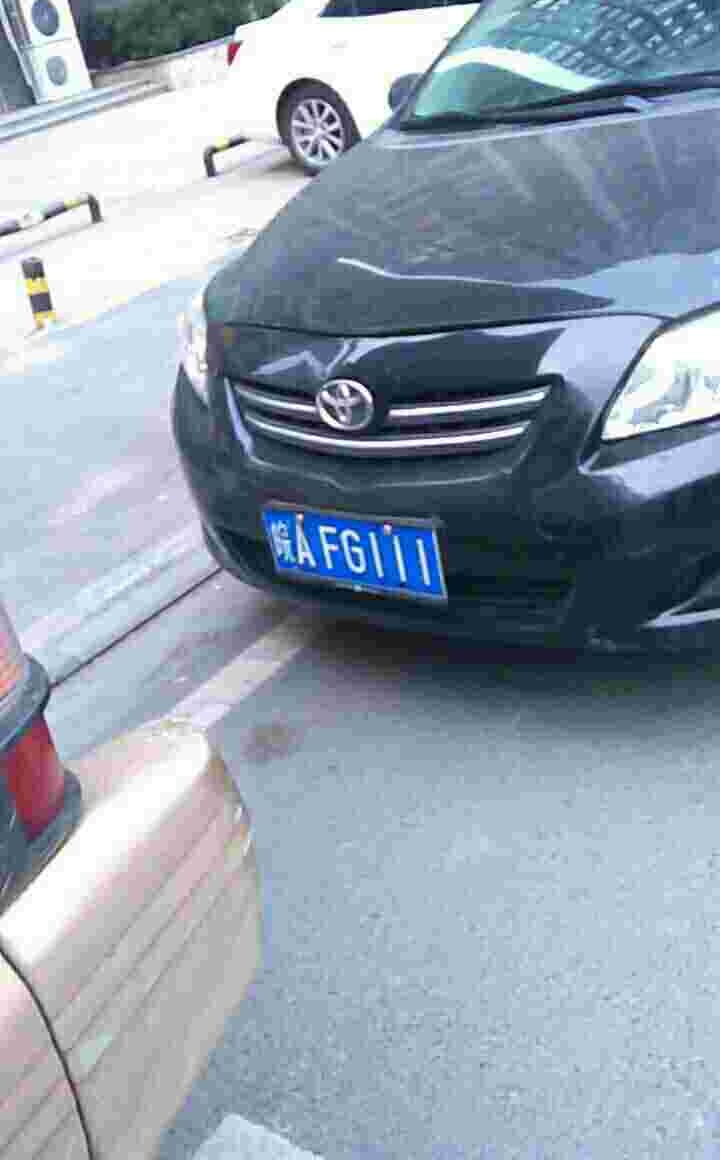license_plate: (275, 511, 446, 598)
